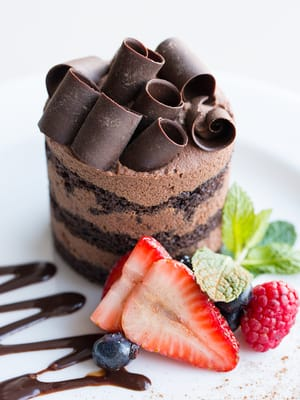sandwich: (0, 292, 87, 335), (0, 261, 58, 294)
